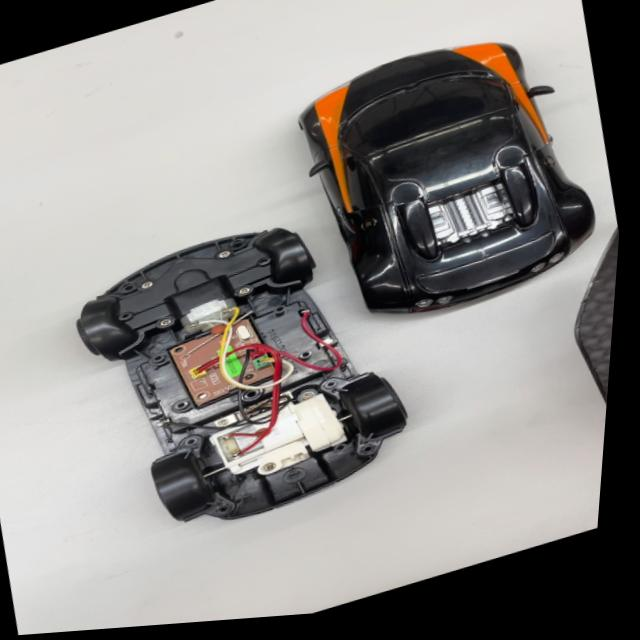Chassis: (43, 187, 432, 562)
vehicle_body: (270, 5, 623, 347)
